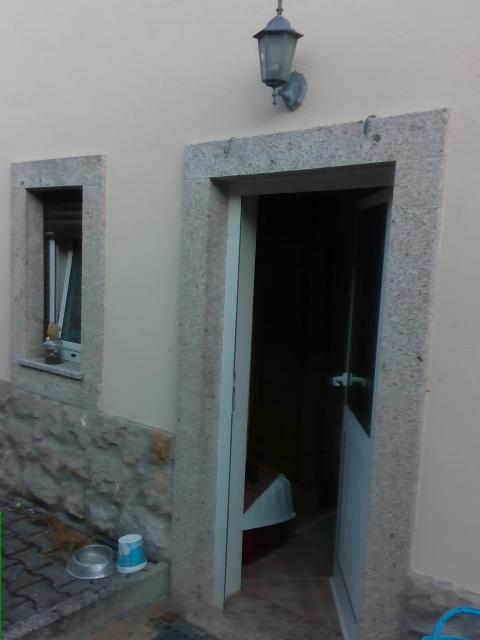semi_door: (209, 160, 393, 639)
